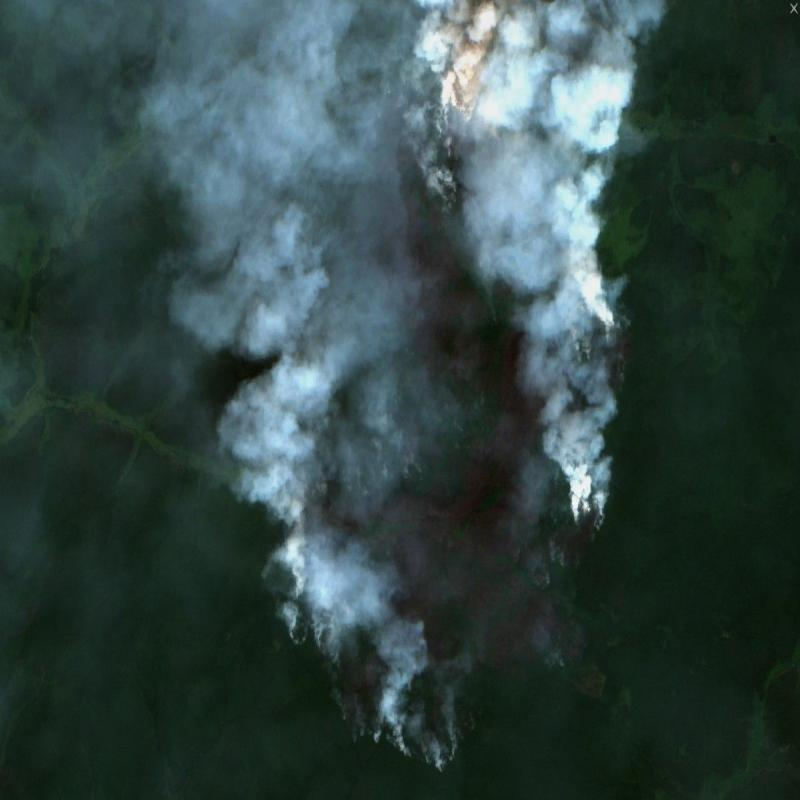fire: (260, 517, 471, 776), (527, 294, 642, 554), (360, 45, 514, 232)
